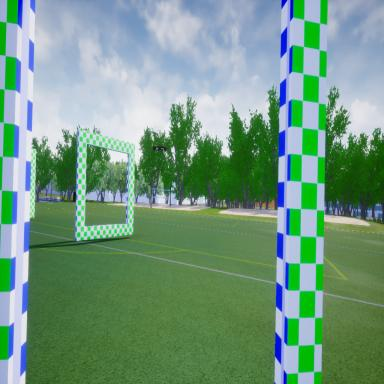gate: (72, 125, 135, 244)
